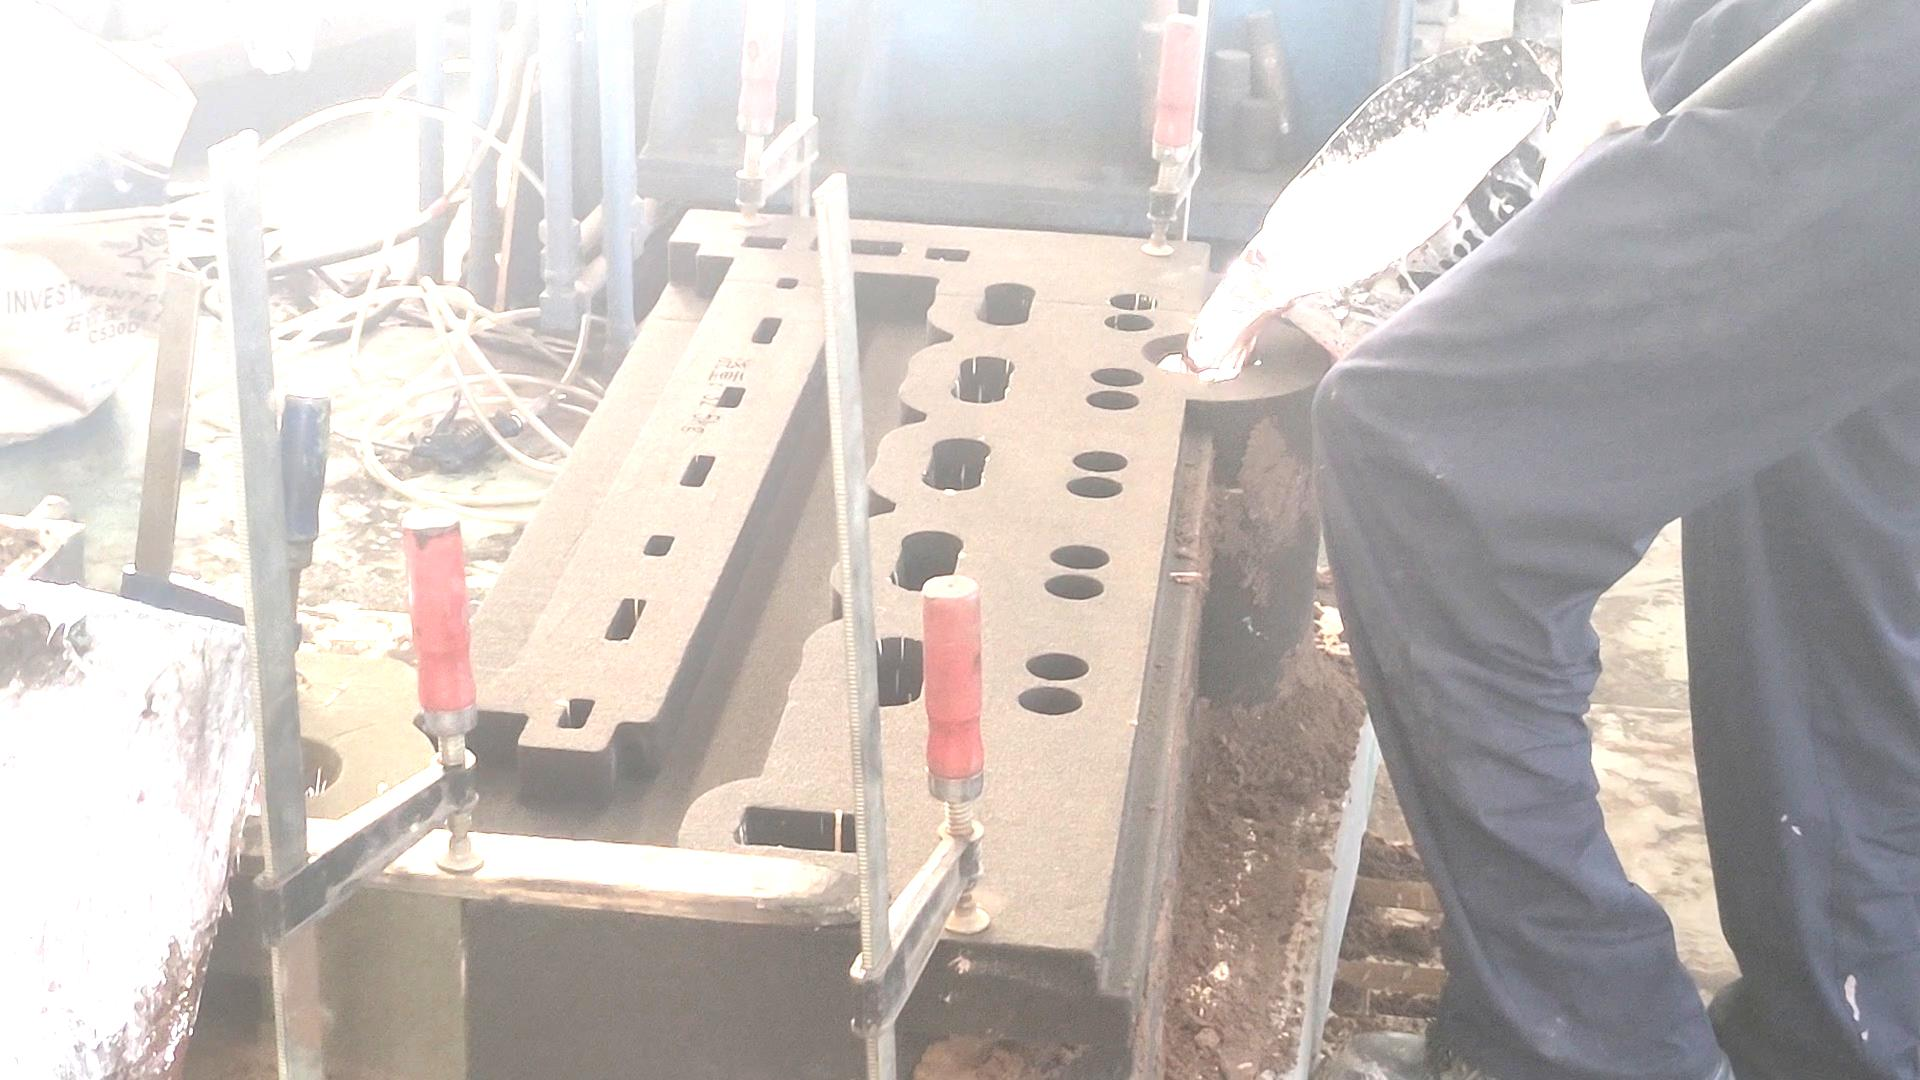pouring hole: (216, 733, 342, 804), (1139, 327, 1261, 381)
